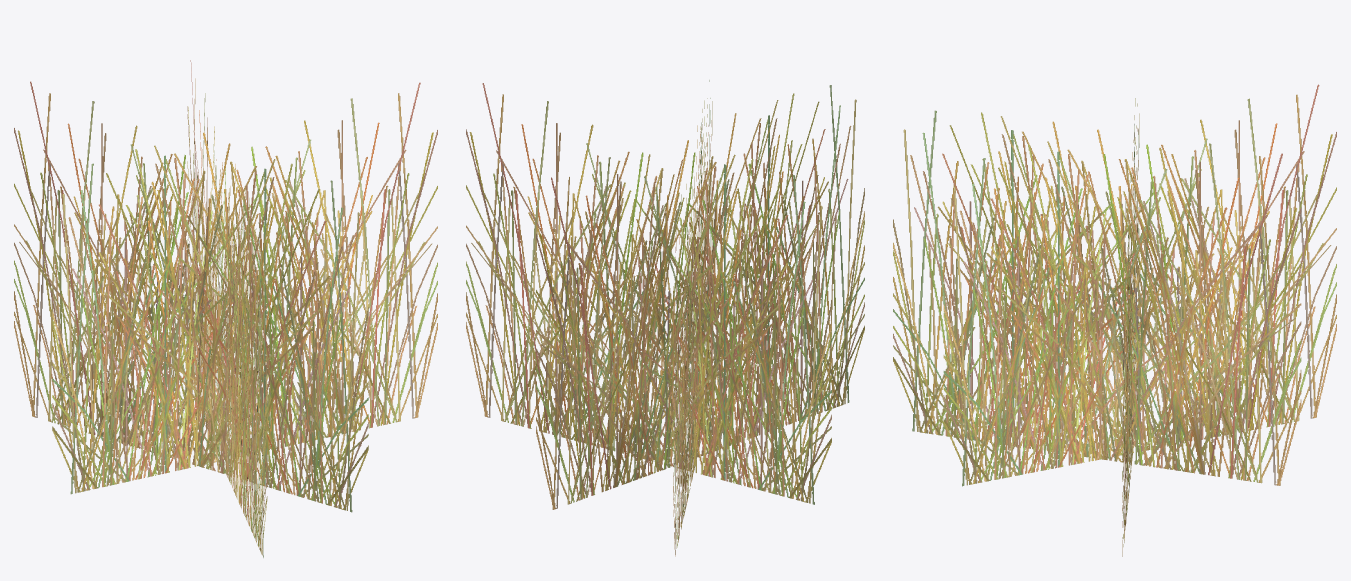
File: Grass_Wispy_Tall_LOD1.gltf
The picture shows the model from 3 angles, left to right: view 1: azimuth 30°, elevation 25°; view 2: azimuth 150°, elevation 25°; view 3: azimuth 270°, elevation 25°; orthographic projection.
Parts seen in each view (by area): view 1: Grass_Wispy_Tall_LOD1; view 2: Grass_Wispy_Tall_LOD1; view 3: Grass_Wispy_Tall_LOD1.
Boxes of the visible parts, box(x1,y1,x2,y2) form: Grass_Wispy_Tall_LOD1: box(14, 60, 437, 557); Grass_Wispy_Tall_LOD1: box(466, 80, 864, 556); Grass_Wispy_Tall_LOD1: box(893, 84, 1336, 556).
Size of the model in its own units: 0.8493 by 0.8027 by 0.8716.
1 material, 1 textured.
